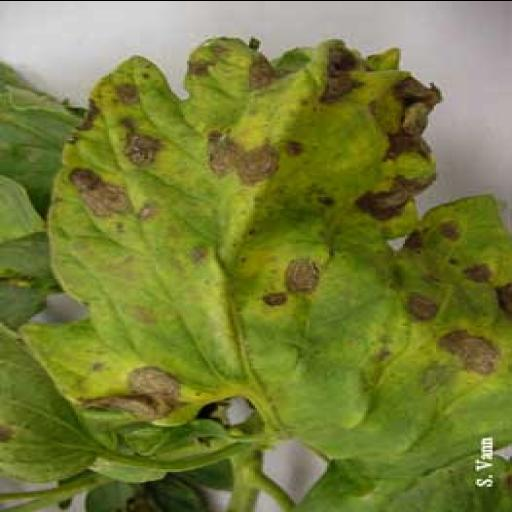Early Blight: (35, 38, 512, 461)
